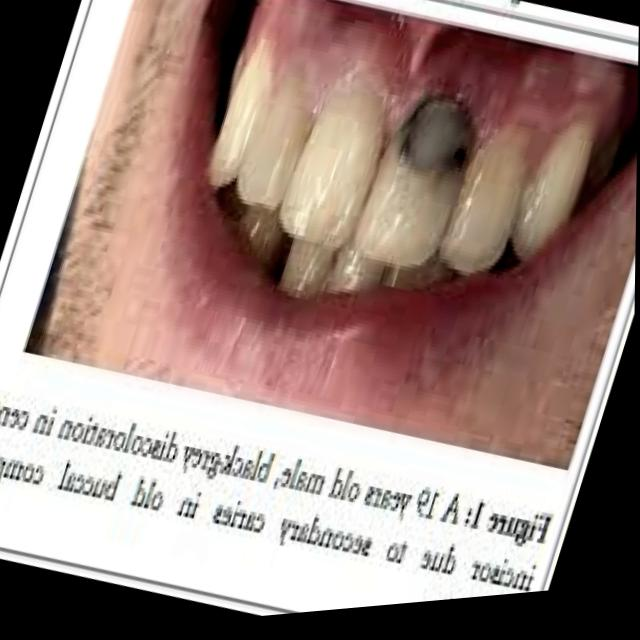tooth-discoloration: (347, 96, 472, 284)
